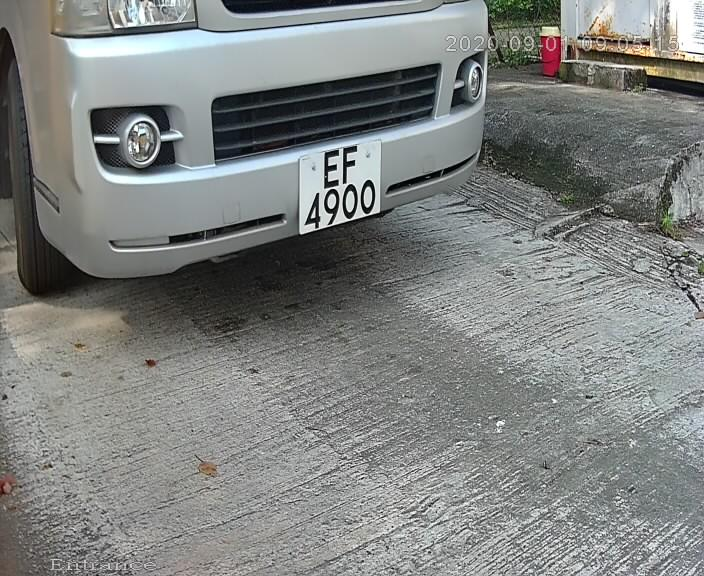License Plate: (290, 139, 390, 240)
